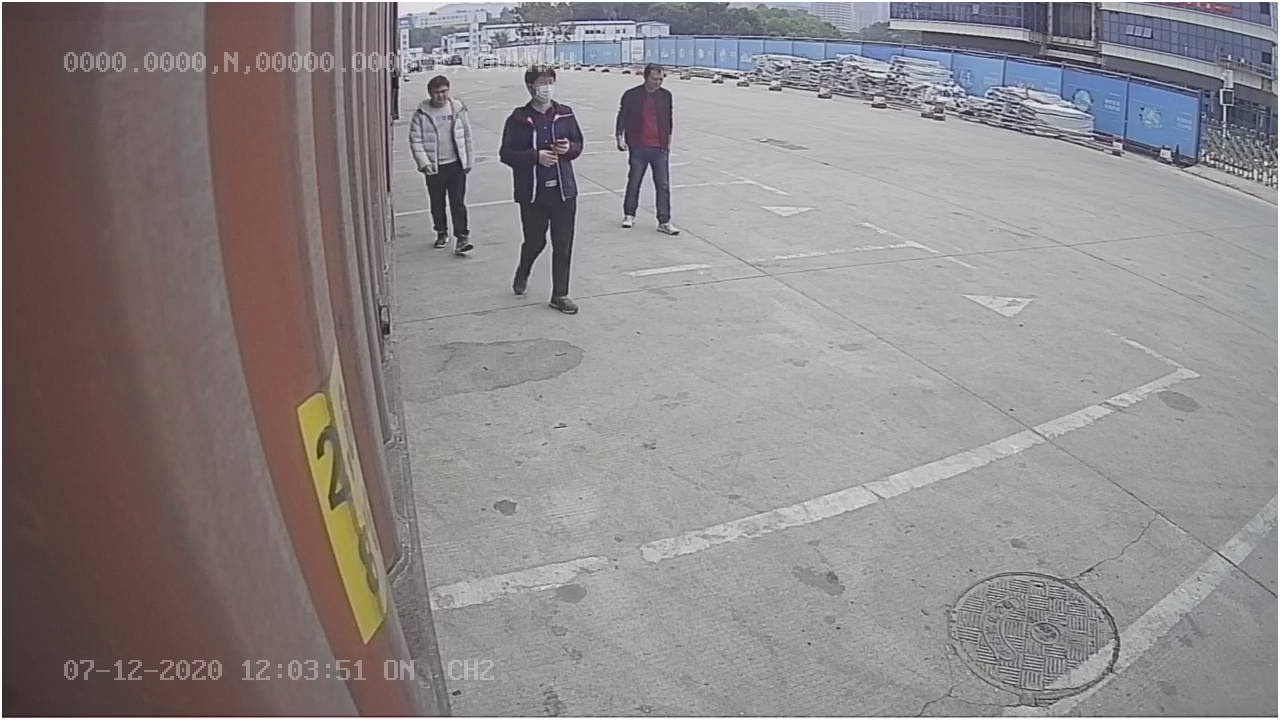person: (502, 62, 589, 321)
